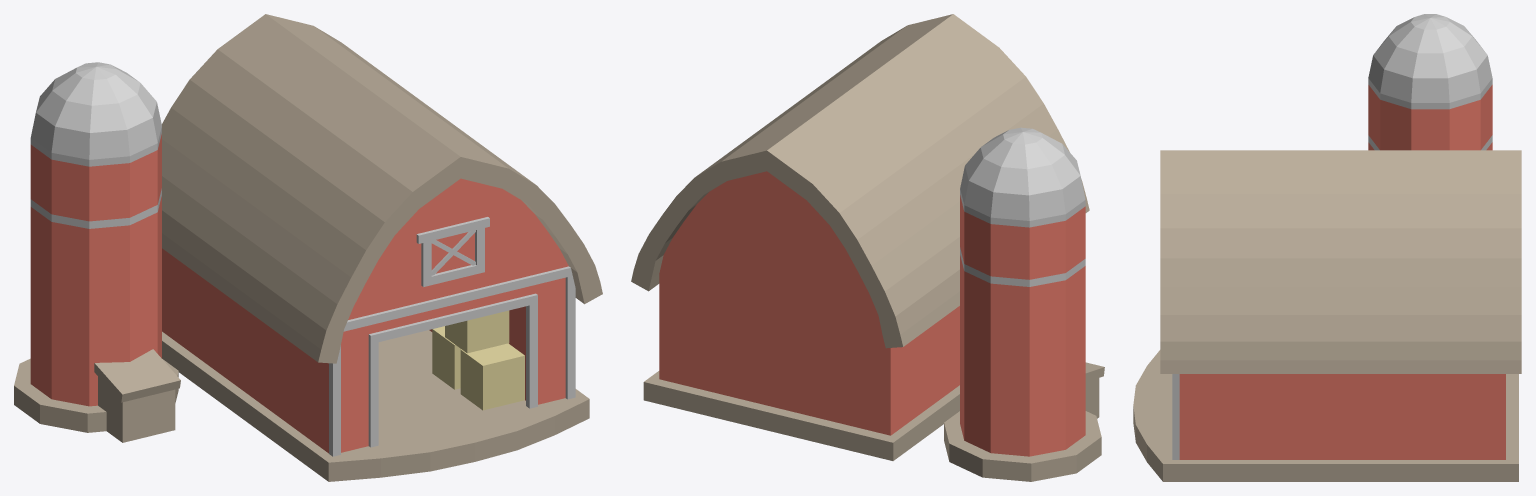
File: Barn.fbx
3 renders of one model, left to right at view 1: azimuth 30°, elevation 25°; view 2: azimuth 150°, elevation 25°; view 3: azimuth 270°, elevation 25°, orthographic. The views are drawn at different scales.
Parts seen in each view (by area): view 1: Roof, Barn, Silo, Frames; view 2: Barn, Roof, Silo; view 3: Roof, Barn, Silo, Frames.
Part boxes in pixels (left/top/right/bottom): Roof: left=162, top=14, right=602, bottom=363; Barn: left=162, top=178, right=589, bottom=481; Silo: left=14, top=62, right=180, bottom=442; Frames: left=329, top=217, right=575, bottom=456; Barn: left=643, top=171, right=959, bottom=460; Roof: left=631, top=14, right=1089, bottom=348; Silo: left=944, top=127, right=1104, bottom=481; Roof: left=1160, top=150, right=1521, bottom=373; Barn: left=1133, top=350, right=1518, bottom=481; Silo: left=1368, top=14, right=1492, bottom=150; Frames: left=1172, top=374, right=1179, bottom=459.
Bounding box in the file's own units: 355 × 261 × 300.
